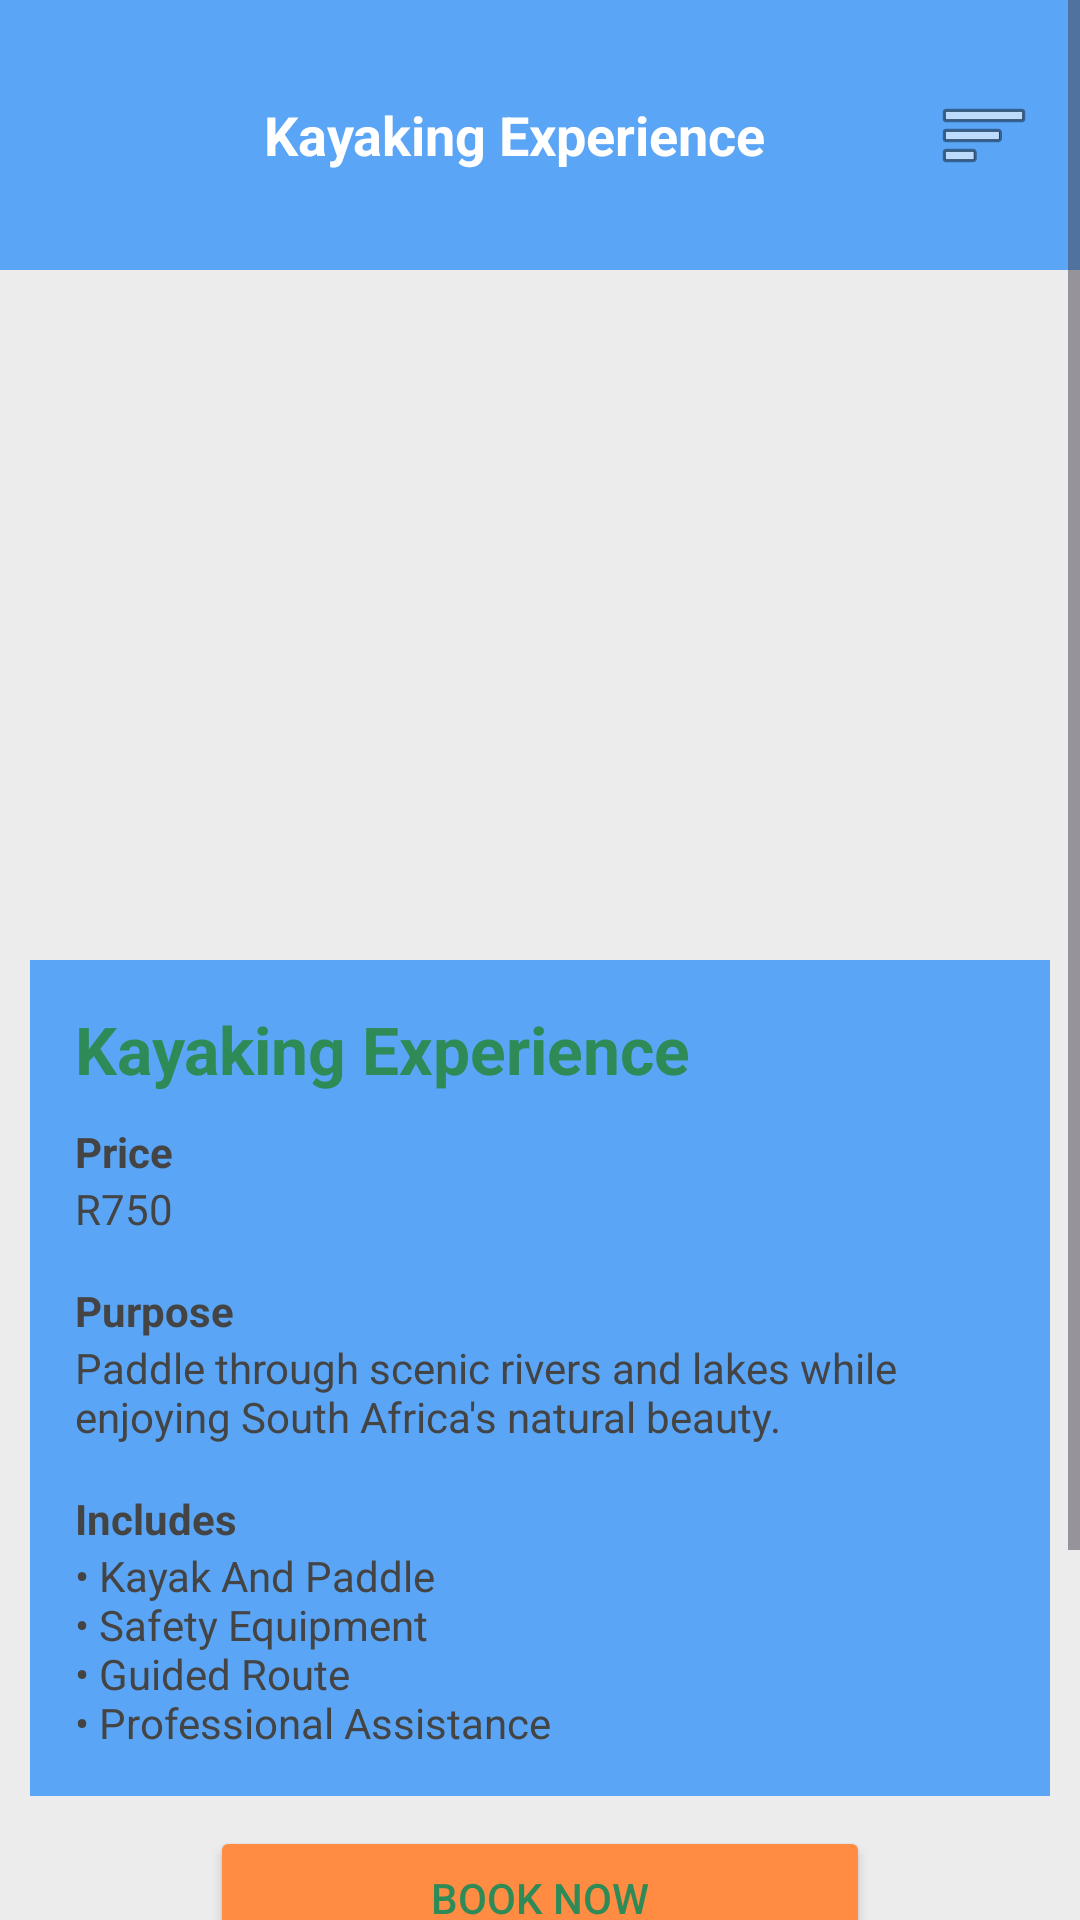

Screen size 1080x1920. Icon name, then its center in pixels as [x,y]:
sort by size: [984,135]
